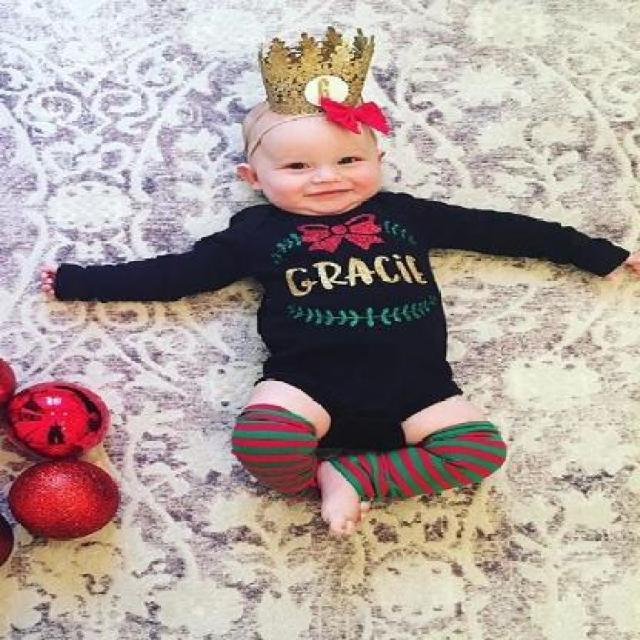baby: (36, 90, 638, 538)
